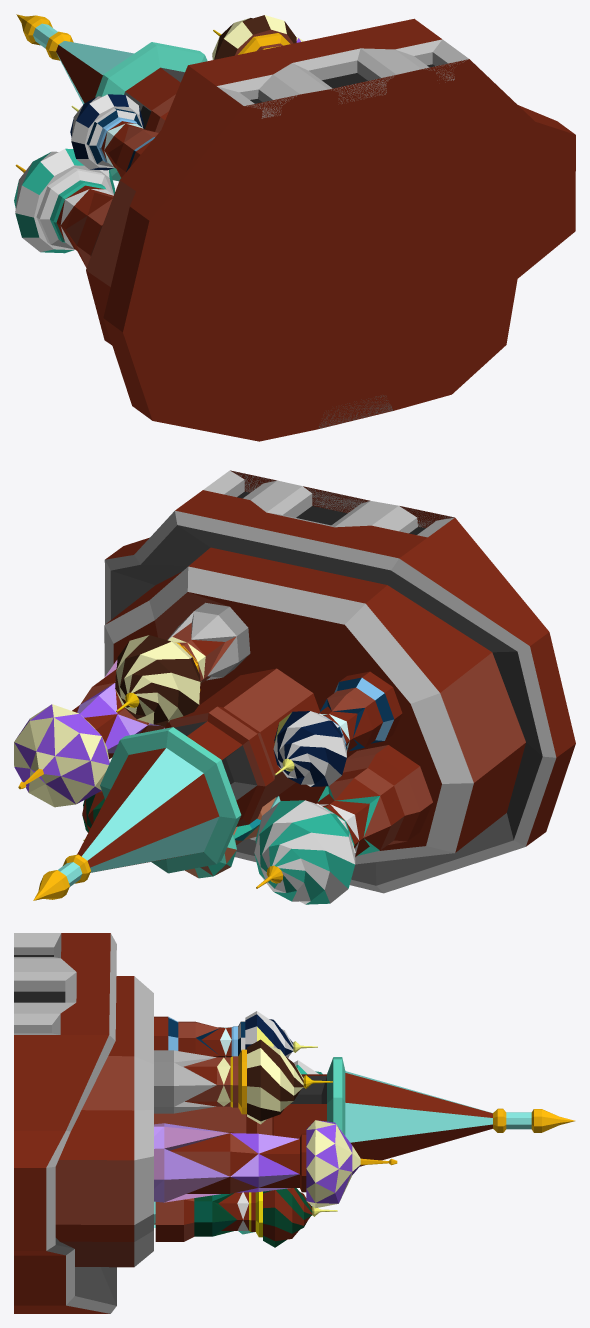
The model's file is statue_7_1.fbx.
3 renders of one model, top to bottom at view 1: azimuth 30°, elevation 25°; view 2: azimuth 150°, elevation 25°; view 3: azimuth 270°, elevation 25°, orthographic. The views are drawn at different scales.
Parts seen in each view (by area): view 1: statue_7_1; view 2: statue_7_1; view 3: statue_7_1.
Boxes of the visible parts, x1,y1,x2,y2 form: statue_7_1: (14,14,575,441); statue_7_1: (14,470,575,904); statue_7_1: (14,933,575,1313).
Size of the model in its own units: 475 by 341 by 590.
